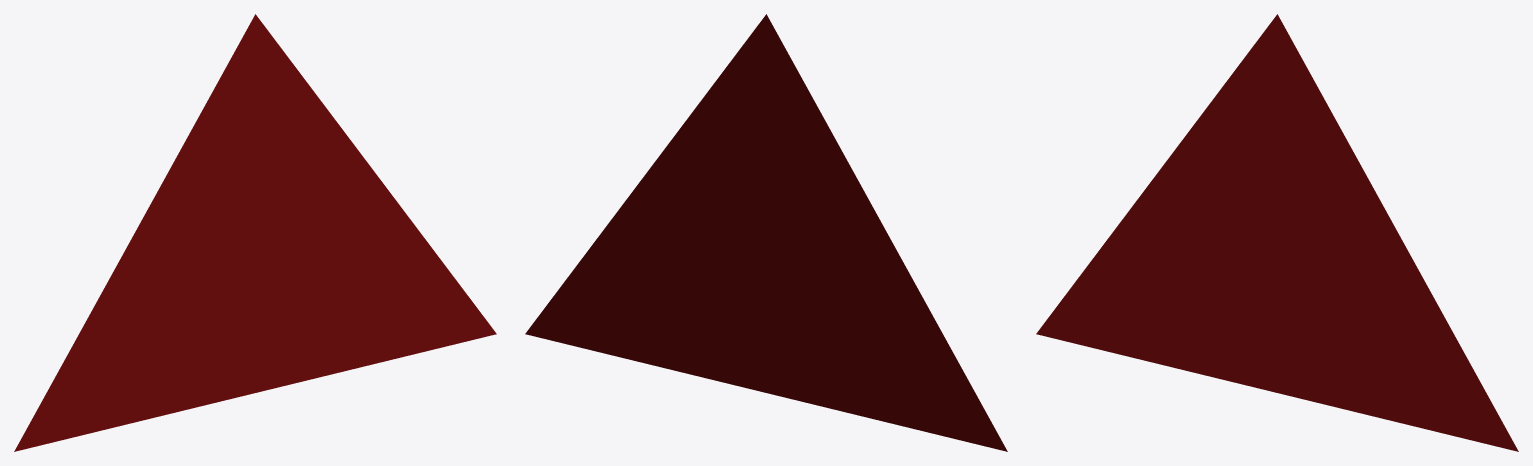
File: material_blend.gltf
3 renders of one model, left to right at view 1: azimuth 30°, elevation 25°; view 2: azimuth 150°, elevation 25°; view 3: azimuth 330°, elevation 25°, orthographic.
Visible parts, largest first — view 1: probe; view 2: probe; view 3: probe.
Part boxes in pixels (x1,y1,x2,y2): probe: (14, 14, 496, 451); probe: (525, 14, 1007, 451); probe: (1036, 14, 1518, 451).
Bounding box in the file's own units: 1 × 0.75 × 0.
Materials: 1 (1 with a texture image).
